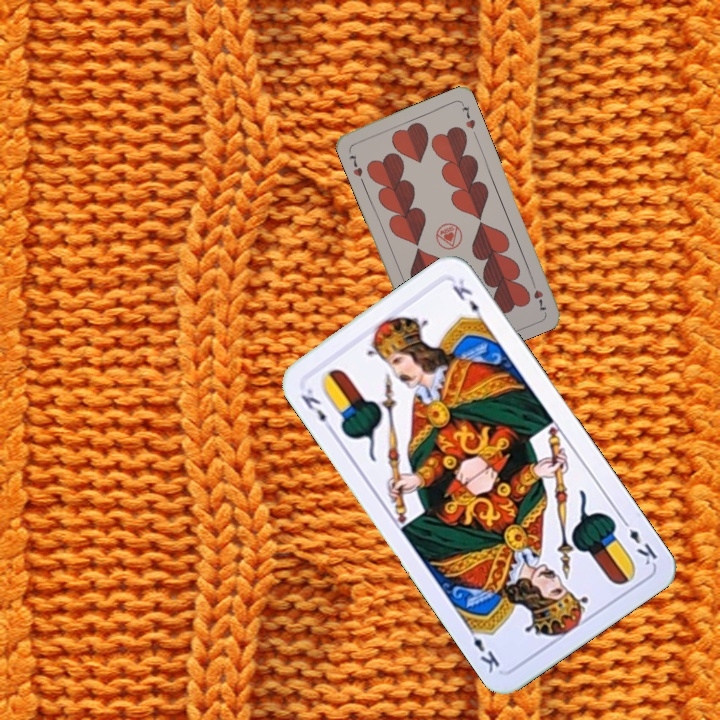EK: (617, 513, 660, 568), (296, 384, 336, 435)
H7: (527, 276, 549, 314), (345, 150, 365, 179)
